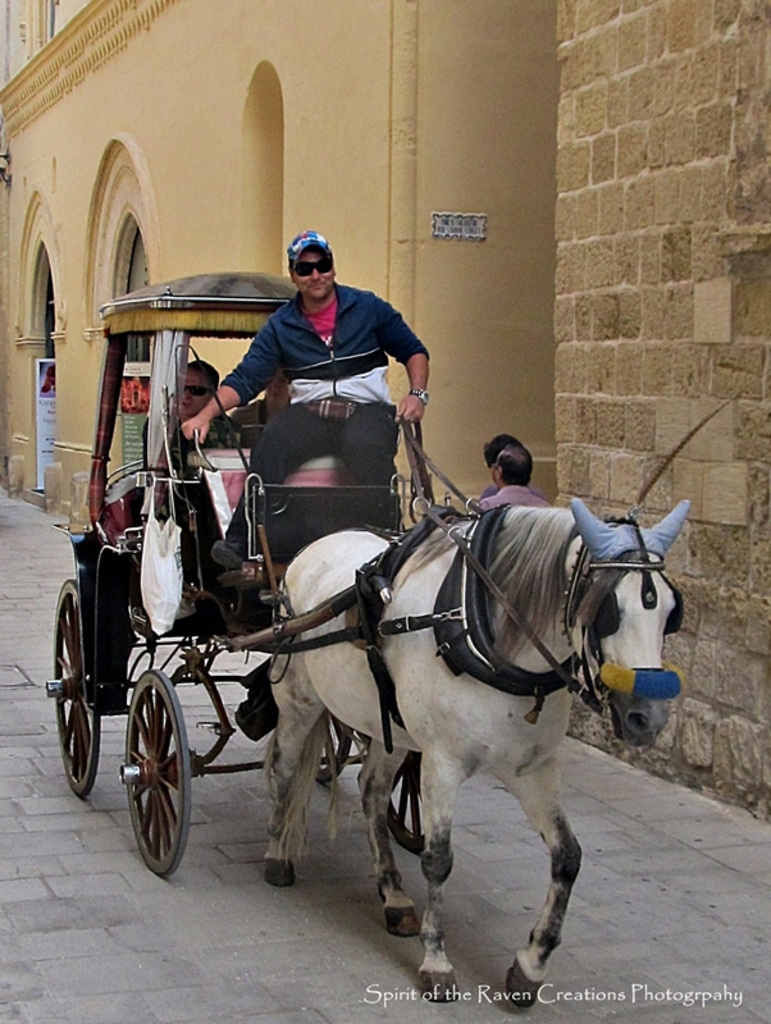horse: (261, 497, 690, 1003)
